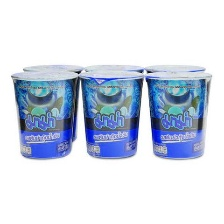paper_cup: (143, 67, 215, 163), (9, 66, 79, 162), (78, 66, 148, 162)
